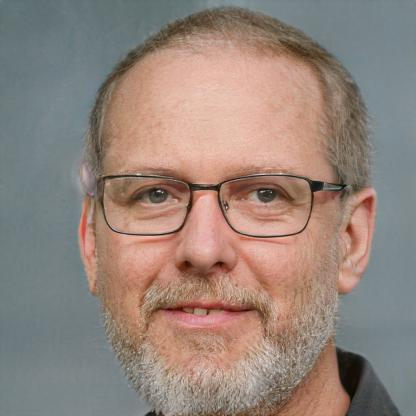glasses: (92, 171, 336, 242)
